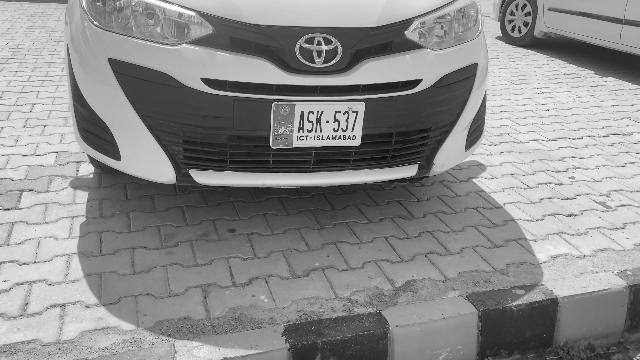Number: (295, 108, 362, 135)
